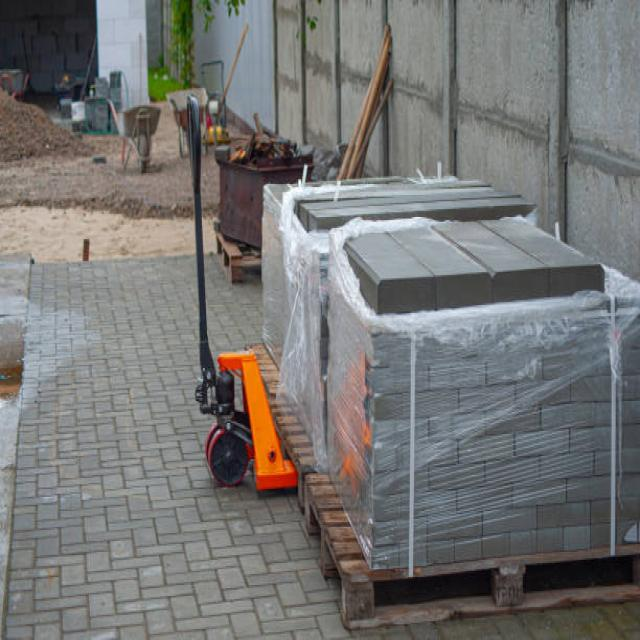Wooden-Pallets: (290, 470, 640, 630)
